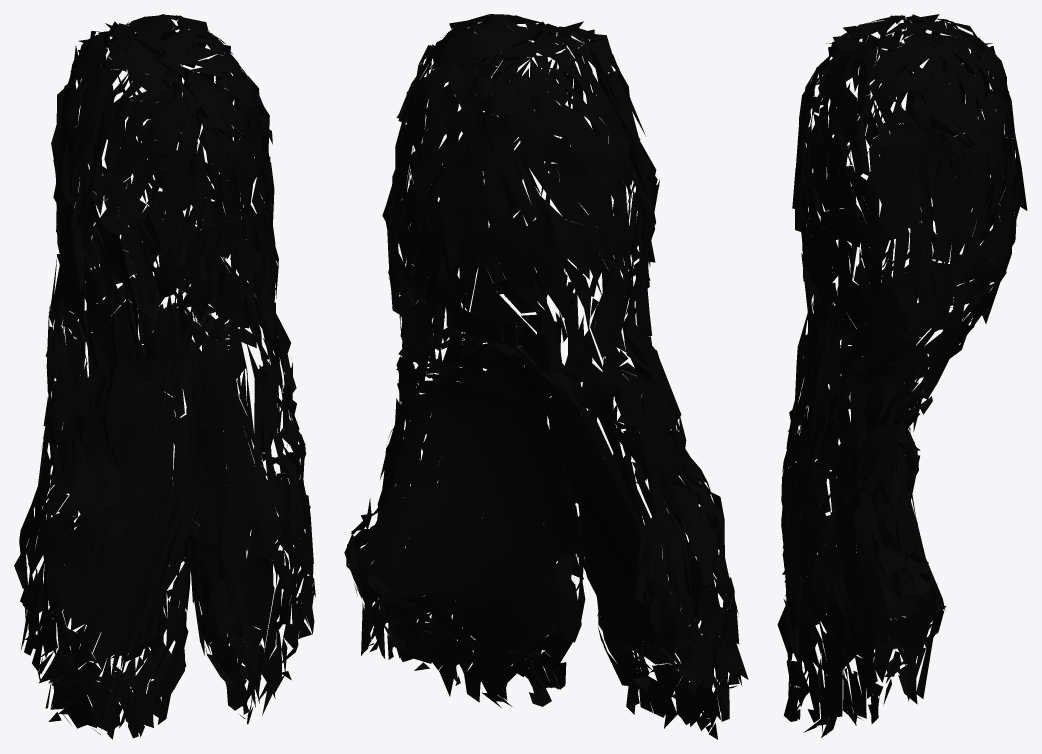
File: krasue_hair.glb
3 renders of one model, left to right at view 1: azimuth 30°, elevation 25°; view 2: azimuth 150°, elevation 25°; view 3: azimuth 270°, elevation 25°, orthographic. The views are drawn at different scales.
Parts seen in each view (by area): view 1: Hair_low; view 2: Hair_low; view 3: Hair_low.
Part boxes in pixels (x1=…): Hair_low: x1=14, y1=14, x2=315, y2=739; Hair_low: x1=344, y1=14, x2=748, y2=739; Hair_low: x1=777, y1=14, x2=1027, y2=737.
Bounding box in the file's own units: 0.3503 × 0.7096 × 0.2371.
Materials: 1 (1 with a texture image).
